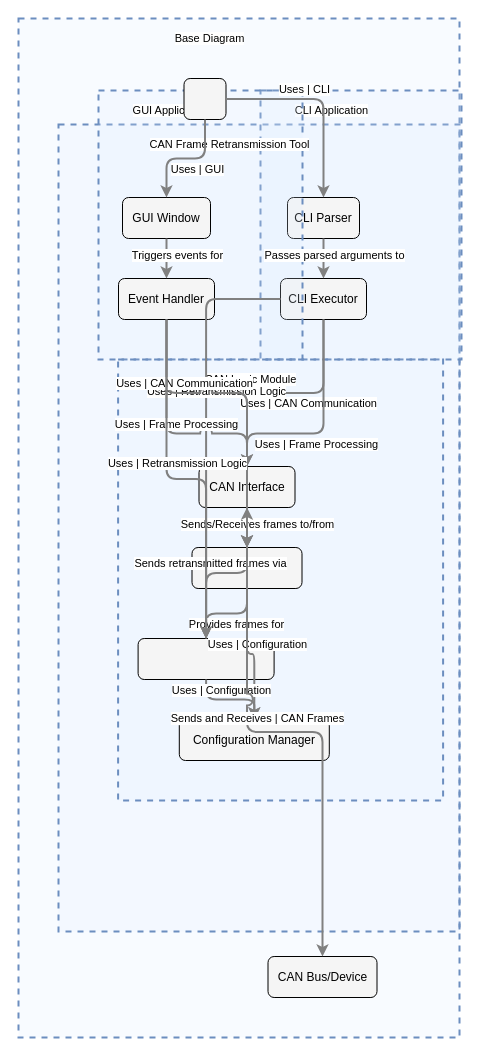
This 479x1055 diagram has some shape labels left out. The centre of each missing label's shape, as x and y in pixels:
"Frame Processor" goes at (x=246, y=567).
"Retransmission Logic" goes at (x=205, y=659).
"User" goes at (x=204, y=99).
